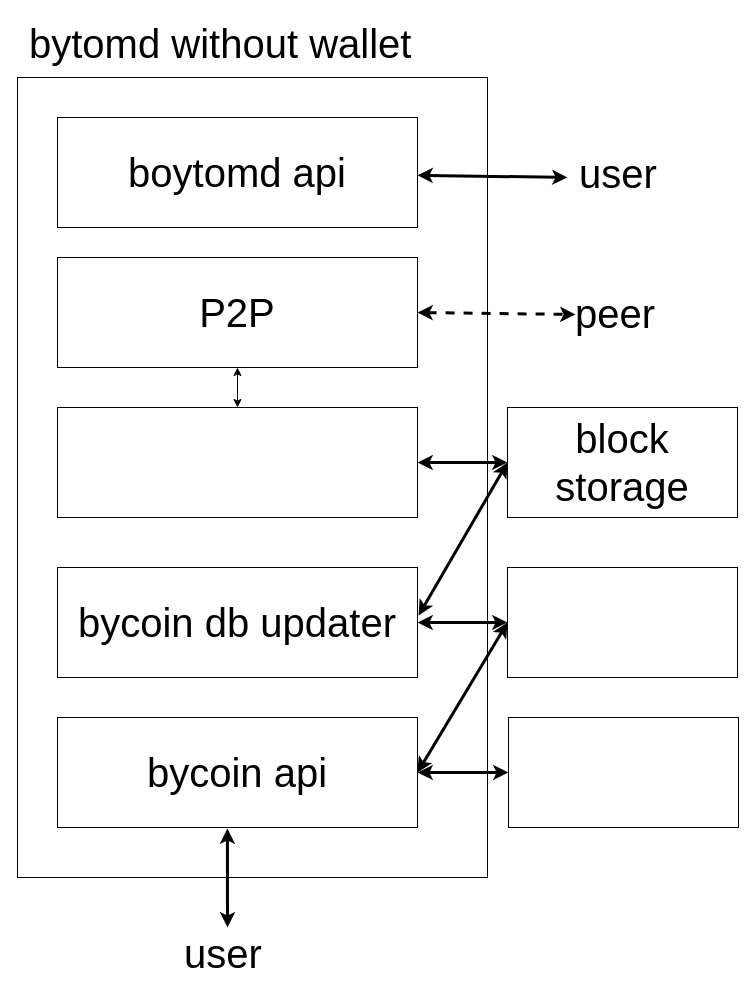
The diagram is 756 pixels wide and 995 high, and some of its shapes have lost their labels. Each missing label, with the centre of its shape:
"block storage updater" belongs at (237,462).
"bycoin db" belongs at (622,622).
"redis" belongs at (623,772).
